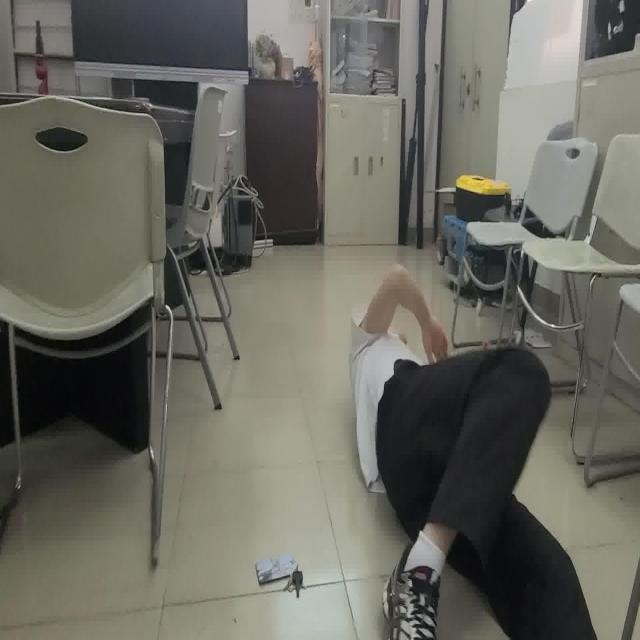fall: (349, 262, 597, 640)
